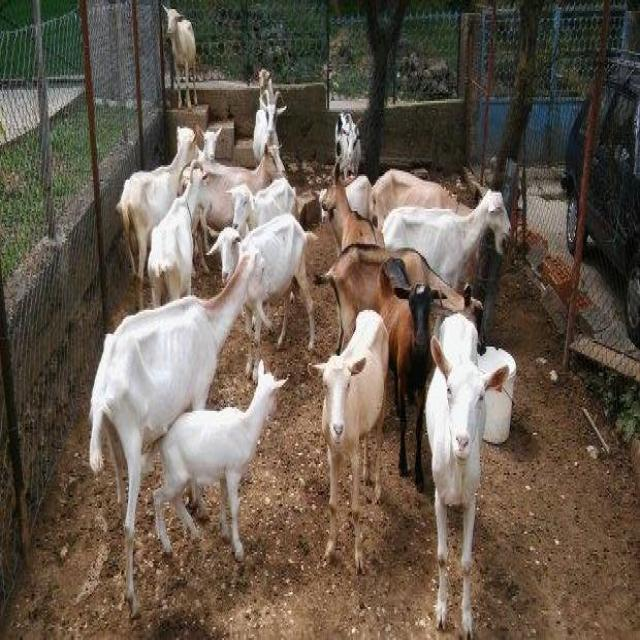Goat: (88, 68, 515, 631), (87, 244, 264, 618), (423, 310, 509, 636), (152, 358, 290, 561), (307, 306, 389, 574), (161, 4, 197, 108)
